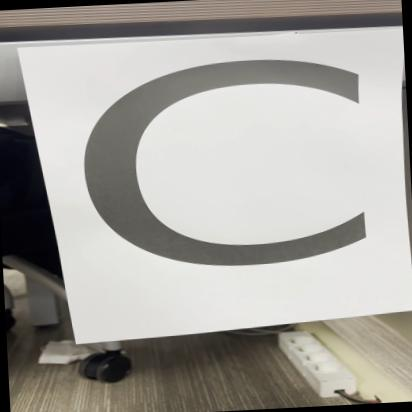seat: (23, 27, 406, 332)
